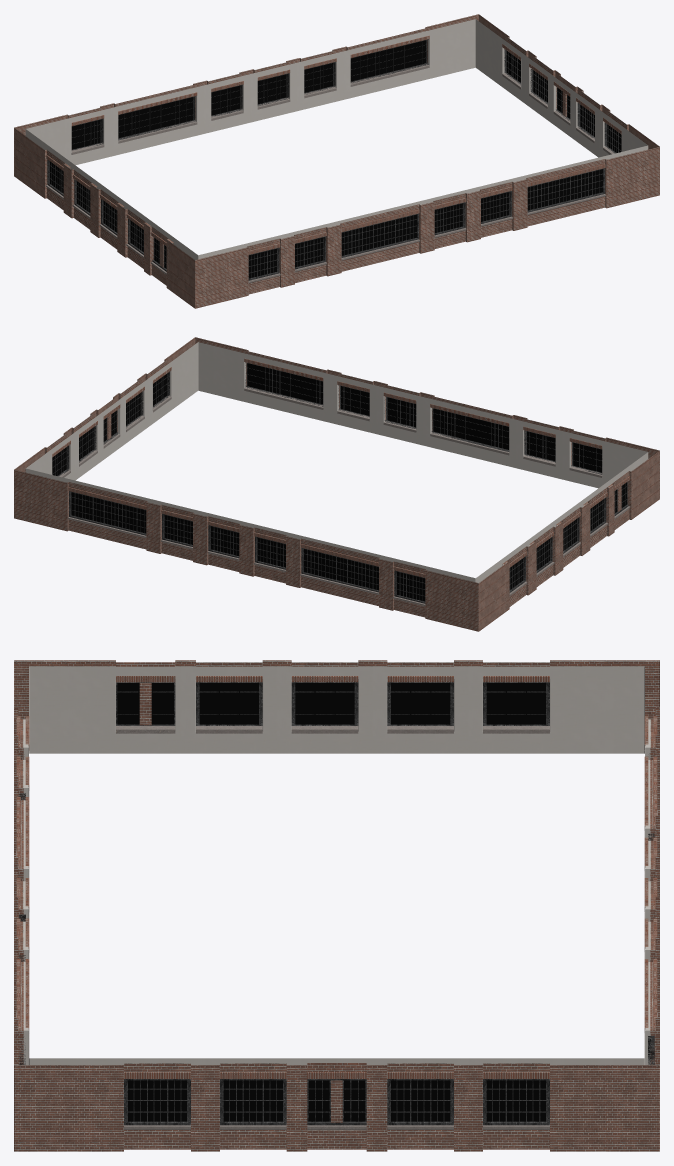
Rendered from BuildingA_Mid_VarB.fbx.
The picture shows the model from 3 angles, top to bottom: view 1: azimuth 30°, elevation 25°; view 2: azimuth 150°, elevation 25°; view 3: azimuth 270°, elevation 25°; orthographic projection. The views are drawn at different scales.
Visible parts, largest first — view 1: BuildingA_Mid_VarB; view 2: BuildingA_Mid_VarB; view 3: BuildingA_Mid_VarB.
Part boxes in pixels (box(x1,y1,x2,y2)): BuildingA_Mid_VarB: box(14, 14, 659, 308); BuildingA_Mid_VarB: box(14, 337, 659, 631); BuildingA_Mid_VarB: box(14, 660, 659, 1151).
Size of the model in its own units: 4000 by 400 by 2700.
